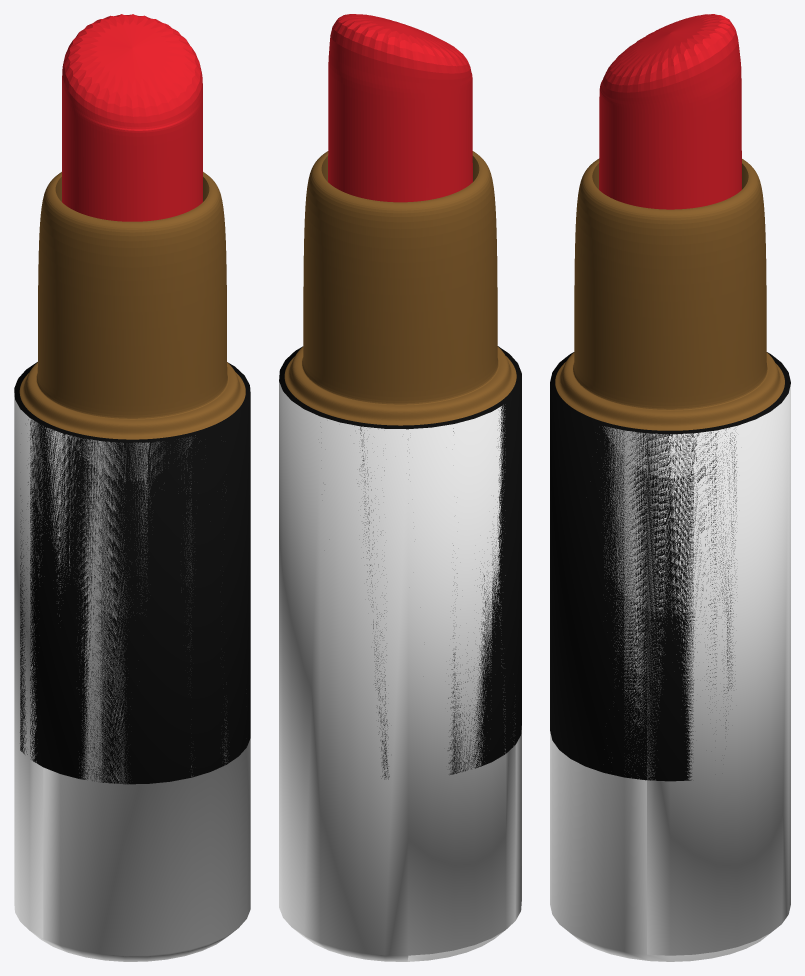
File: Lipstick.fbx
3 views of the same model, side by side, from view 1: azimuth 30°, elevation 25°; view 2: azimuth 150°, elevation 25°; view 3: azimuth 270°, elevation 25° (orthographic). The views are drawn at different scales.
Parts seen in each view (by area): view 1: 柱体.002, 柱体, 柱体.001, 柱体.003; view 2: 柱体, 柱体.001, 柱体.003, 柱体.002; view 3: 柱体, 柱体.002, 柱体.001, 柱体.003.
Boxes of the visible parts, <box> form: 柱体.002: <box>14,362,250,784</box>; 柱体: <box>14,393,250,961</box>; 柱体.001: <box>19,172,245,439</box>; 柱体.003: <box>62,14,202,221</box>; 柱体: <box>279,381,521,961</box>; 柱体.001: <box>284,151,516,425</box>; 柱体.003: <box>328,14,472,202</box>; 柱体.002: <box>279,346,521,779</box>; 柱体: <box>550,384,790,961</box>; 柱体.002: <box>550,352,790,781</box>; 柱体.001: <box>555,158,784,430</box>; 柱体.003: <box>599,14,741,209</box>.
Bounding box in the file's own units: 200 × 821 × 200.
